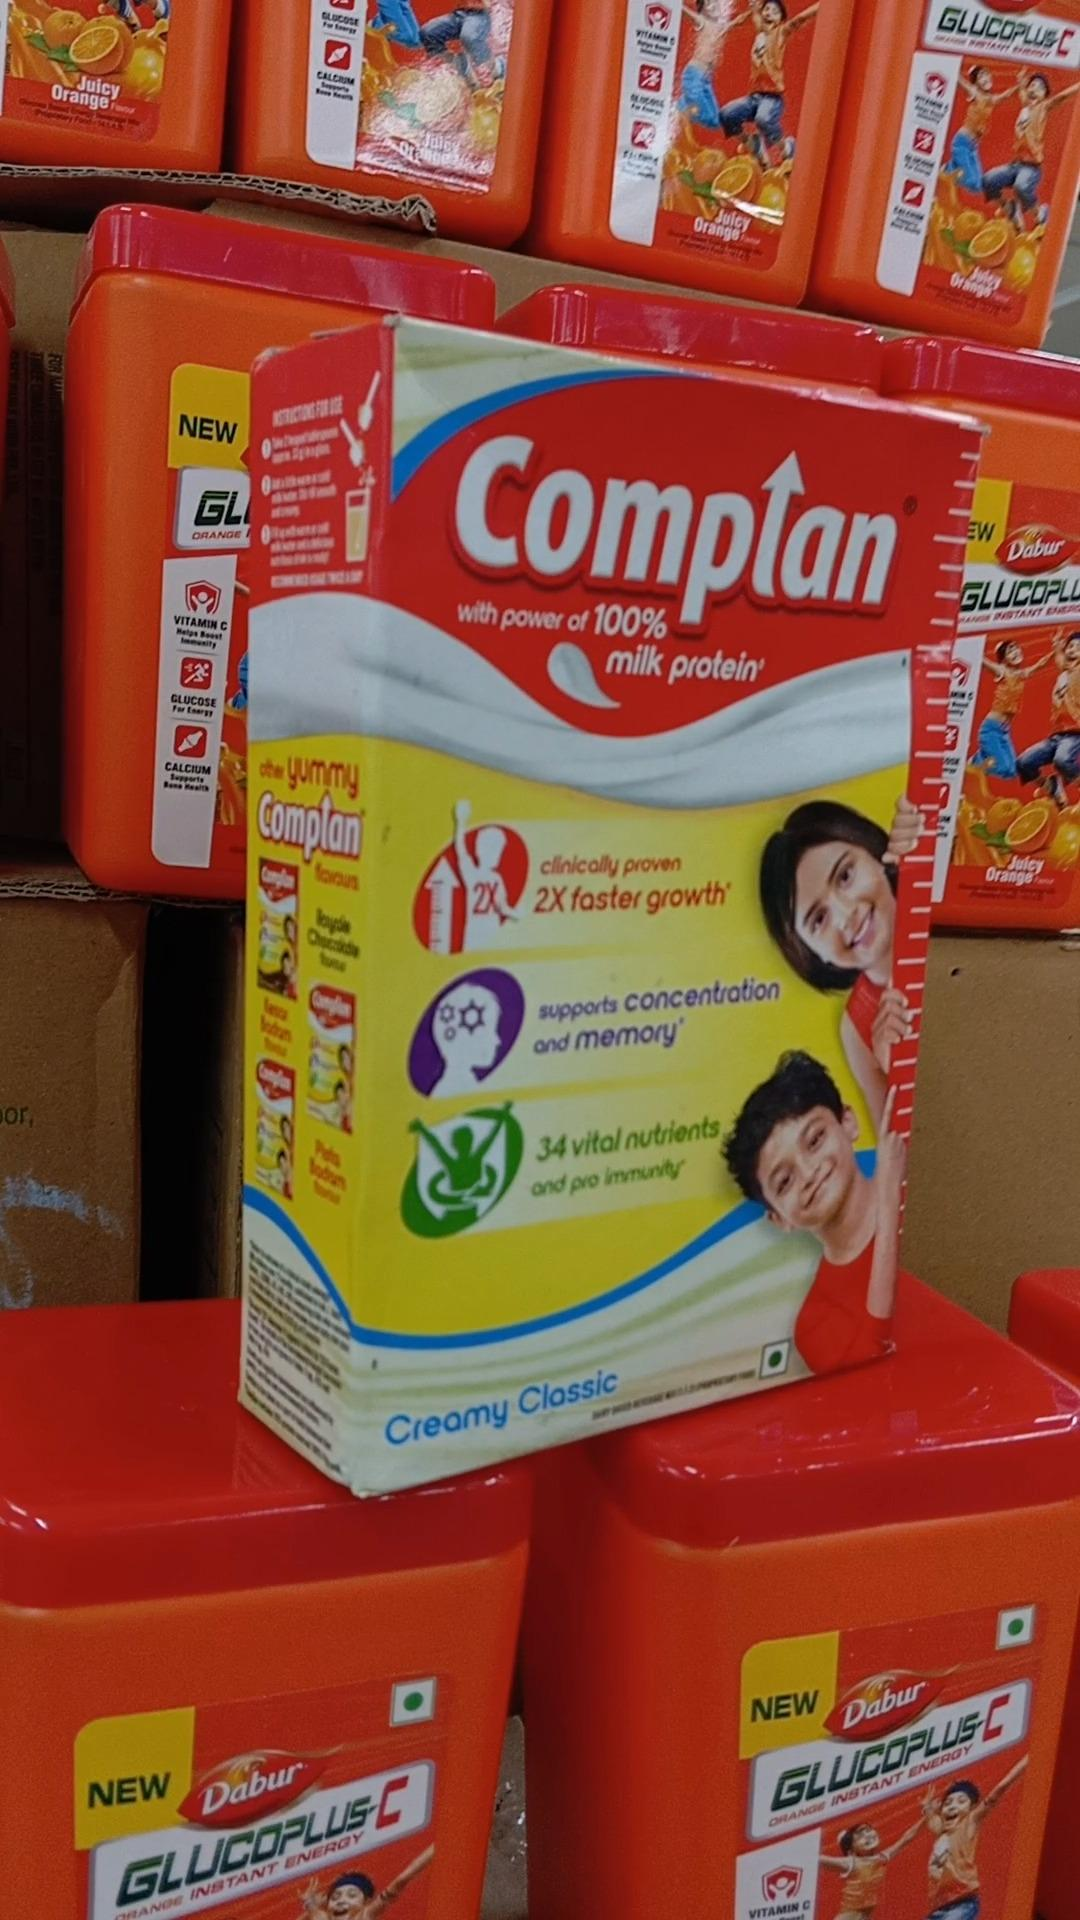COMPLAN_CREAMY_CLASSIC_500_G_PACK: (349, 352, 964, 1487)
